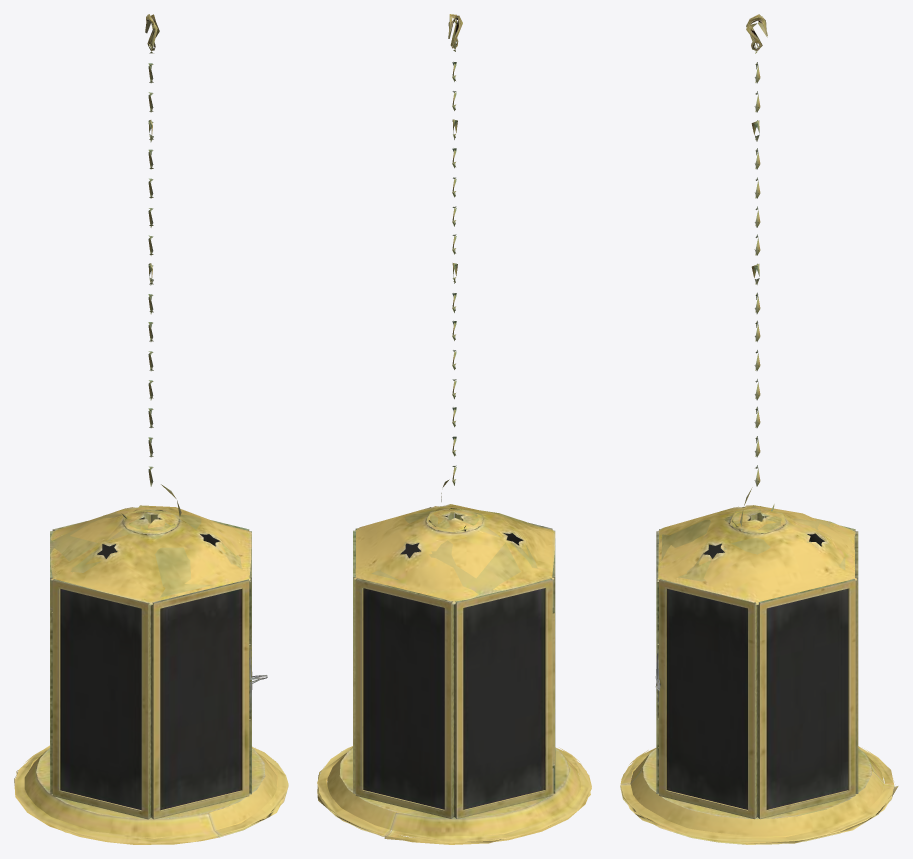
The model's file is ph_brass_diya_lantern.glb.
3 views of the same model, side by side, from view 1: azimuth 30°, elevation 25°; view 2: azimuth 150°, elevation 25°; view 3: azimuth 270°, elevation 25° (orthographic).
Visible parts, largest first — view 1: brass_diya_lantern_connection; view 2: brass_diya_lantern_connection; view 3: brass_diya_lantern_connection.
Part boxes in pixels (<box>): brass_diya_lantern_connection: <box>14,14,288,844</box>; brass_diya_lantern_connection: <box>317,14,591,844</box>; brass_diya_lantern_connection: <box>620,14,898,844</box>.
Size of the model in its own units: 0.123 by 0.3818 by 0.1249.
4 materials, 4 textured.
